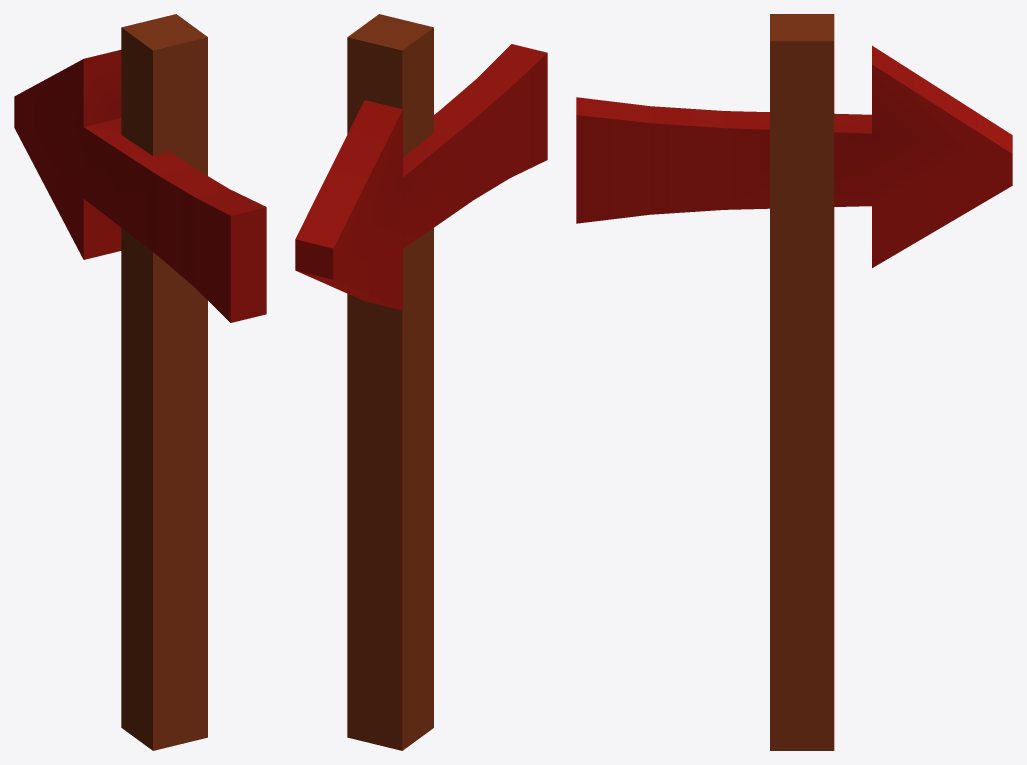
Rendered from Arrow Left.glb.
3 views of the same model, side by side, from view 1: azimuth 30°, elevation 25°; view 2: azimuth 150°, elevation 25°; view 3: azimuth 270°, elevation 25° (orthographic).
Visible parts, largest first — view 1: Arrow Left; view 2: Arrow Left; view 3: Arrow Left.
Boxes of the visible parts, x1,y1,x2,y2 form: Arrow Left: [14, 14, 266, 750]; Arrow Left: [295, 14, 547, 750]; Arrow Left: [576, 14, 1012, 750].
Bounding box in the file's own units: 0.1866 × 1.69 × 0.9397.
